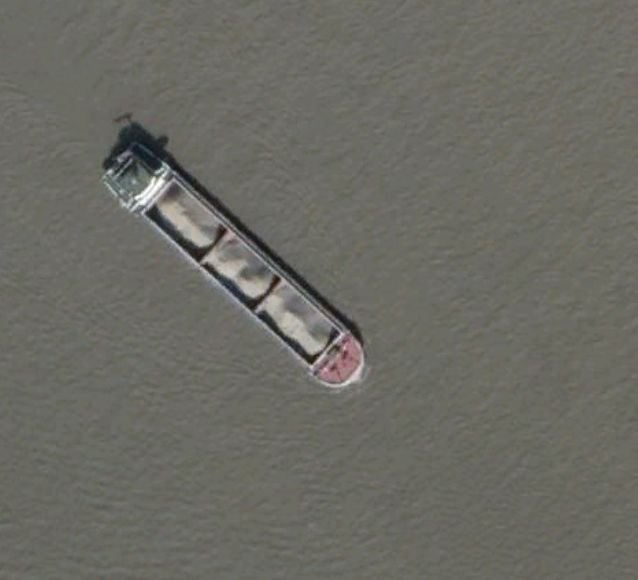boat: (99, 132, 367, 393)
